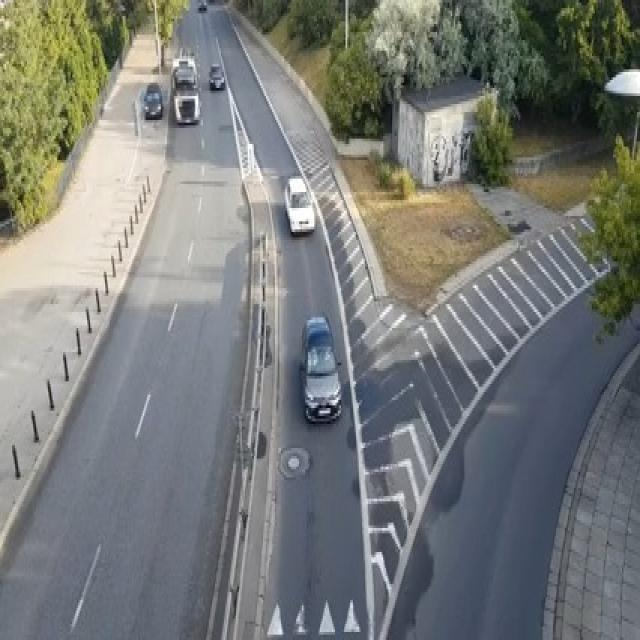car: (299, 315, 341, 421), (284, 173, 315, 235), (143, 83, 162, 117), (209, 61, 224, 88), (197, 0, 206, 11)
truck: (170, 53, 200, 123)
